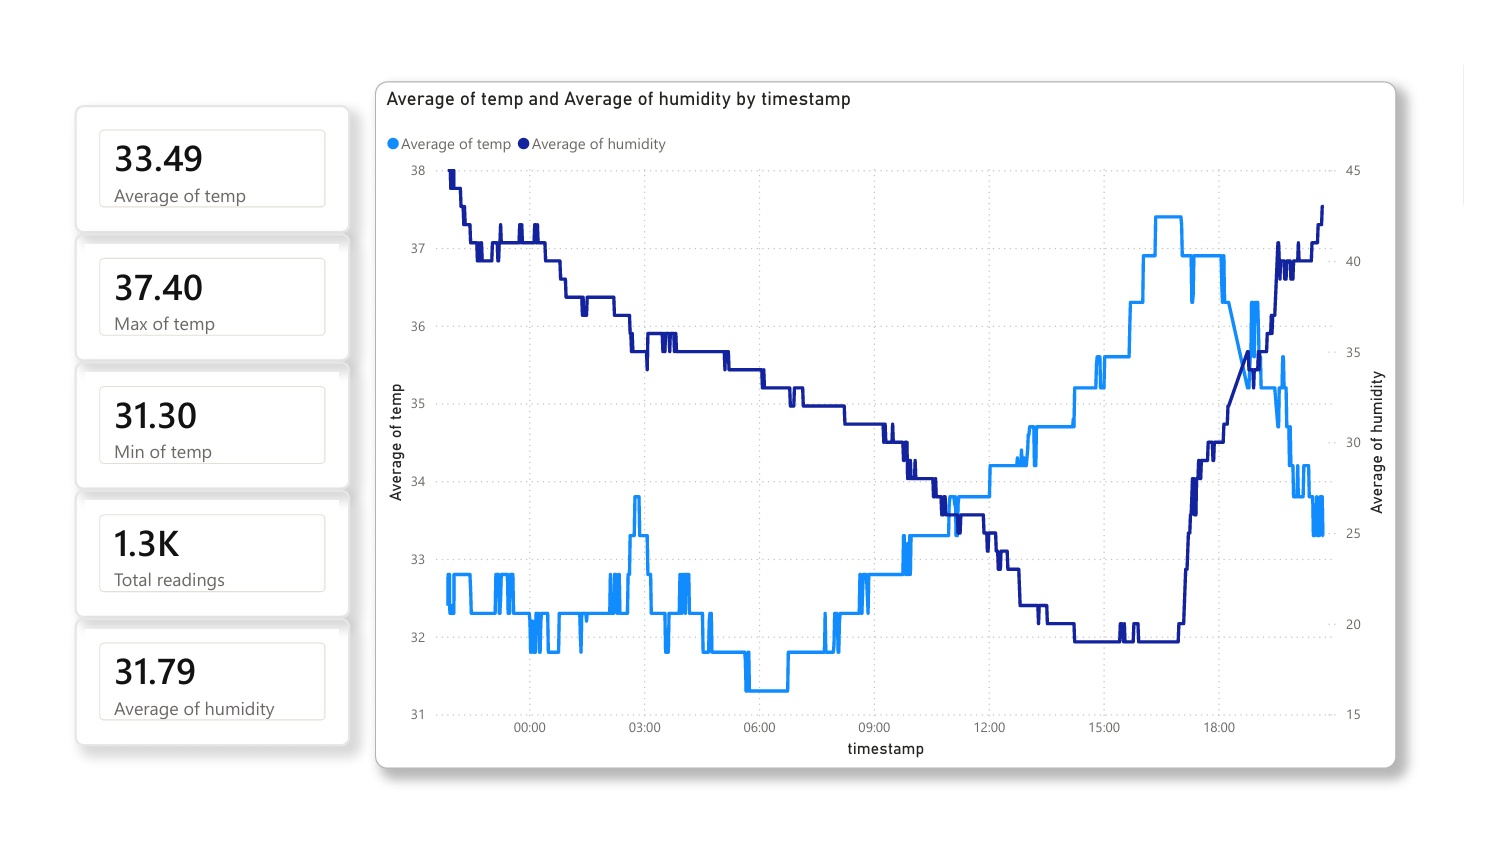

This screenshot's page, from the dashboard's own definition file:
{"tool":"powerbi","page":{"name":"Overview","canvas":[1280,720],"ordinal":0},"visuals":[{"type":"lineChart","fields":{"Category":["sensor_log.timestamp"],"Y":["Avg(sensor_log.temp)"],"Y2":["Avg(sensor_log.humidity)"]},"box":[311.6,51.2,908.1,610.5],"z":0},{"type":"cardVisual","fields":{"Data":["Avg(sensor_log.temp)"]},"box":[44.9,72.3,245.3,114],"z":1000},{"type":"cardVisual","fields":{"Data":["Max(sensor_log.temp)"]},"box":[44.9,186.3,245.3,114],"z":2000},{"type":"cardVisual","fields":{"Data":["Min(sensor_log.temp)"]},"box":[44.9,300.2,245.3,114],"z":3000},{"type":"cardVisual","fields":{"Data":["CountNonNull(sensor_log.timestamp)"]},"box":[44.9,414.2,245.3,114],"z":4000},{"type":"cardVisual","fields":{"Data":["Avg(sensor_log.humidity)"]},"box":[44.9,528.1,245.3,114],"z":5000}]}

Visuals, with their boxes in screenshot pixels (x1, y1, x2, y2), scaled from the page's 1280x720 canvas onto the 1487x857 screenshot:
lineChart - sensor_log.timestamp x Avg(sensor_log.temp): 362, 61, 1417, 788
cardVisual - Avg(sensor_log.temp): 52, 86, 337, 222
cardVisual - Max(sensor_log.temp): 52, 222, 337, 357
cardVisual - Min(sensor_log.temp): 52, 357, 337, 493
cardVisual - CountNonNull(sensor_log.timestamp): 52, 493, 337, 629
cardVisual - Avg(sensor_log.humidity): 52, 629, 337, 764
